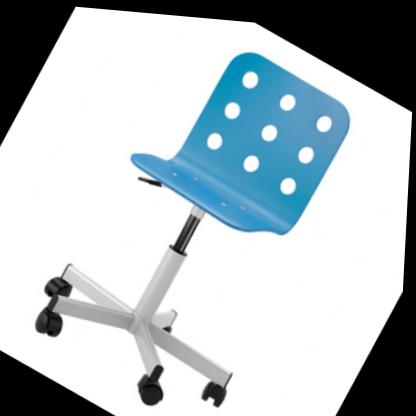Chair: (16, 2, 382, 416)
